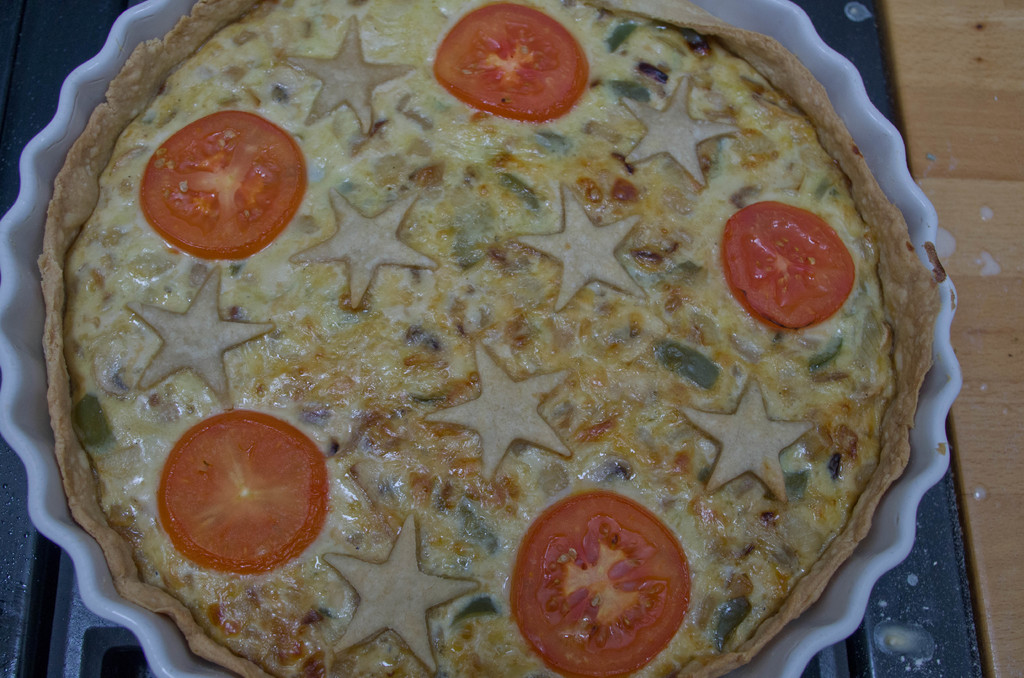Pizza: (74, 0, 933, 664)
